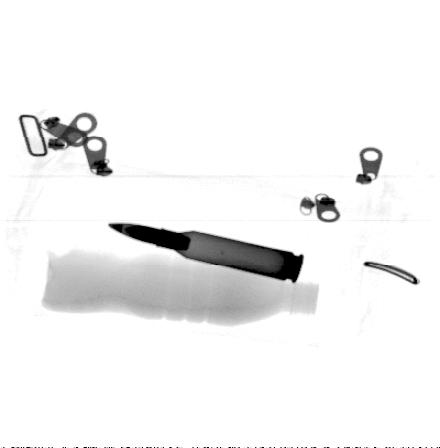Bullet: (106, 223, 303, 284)
